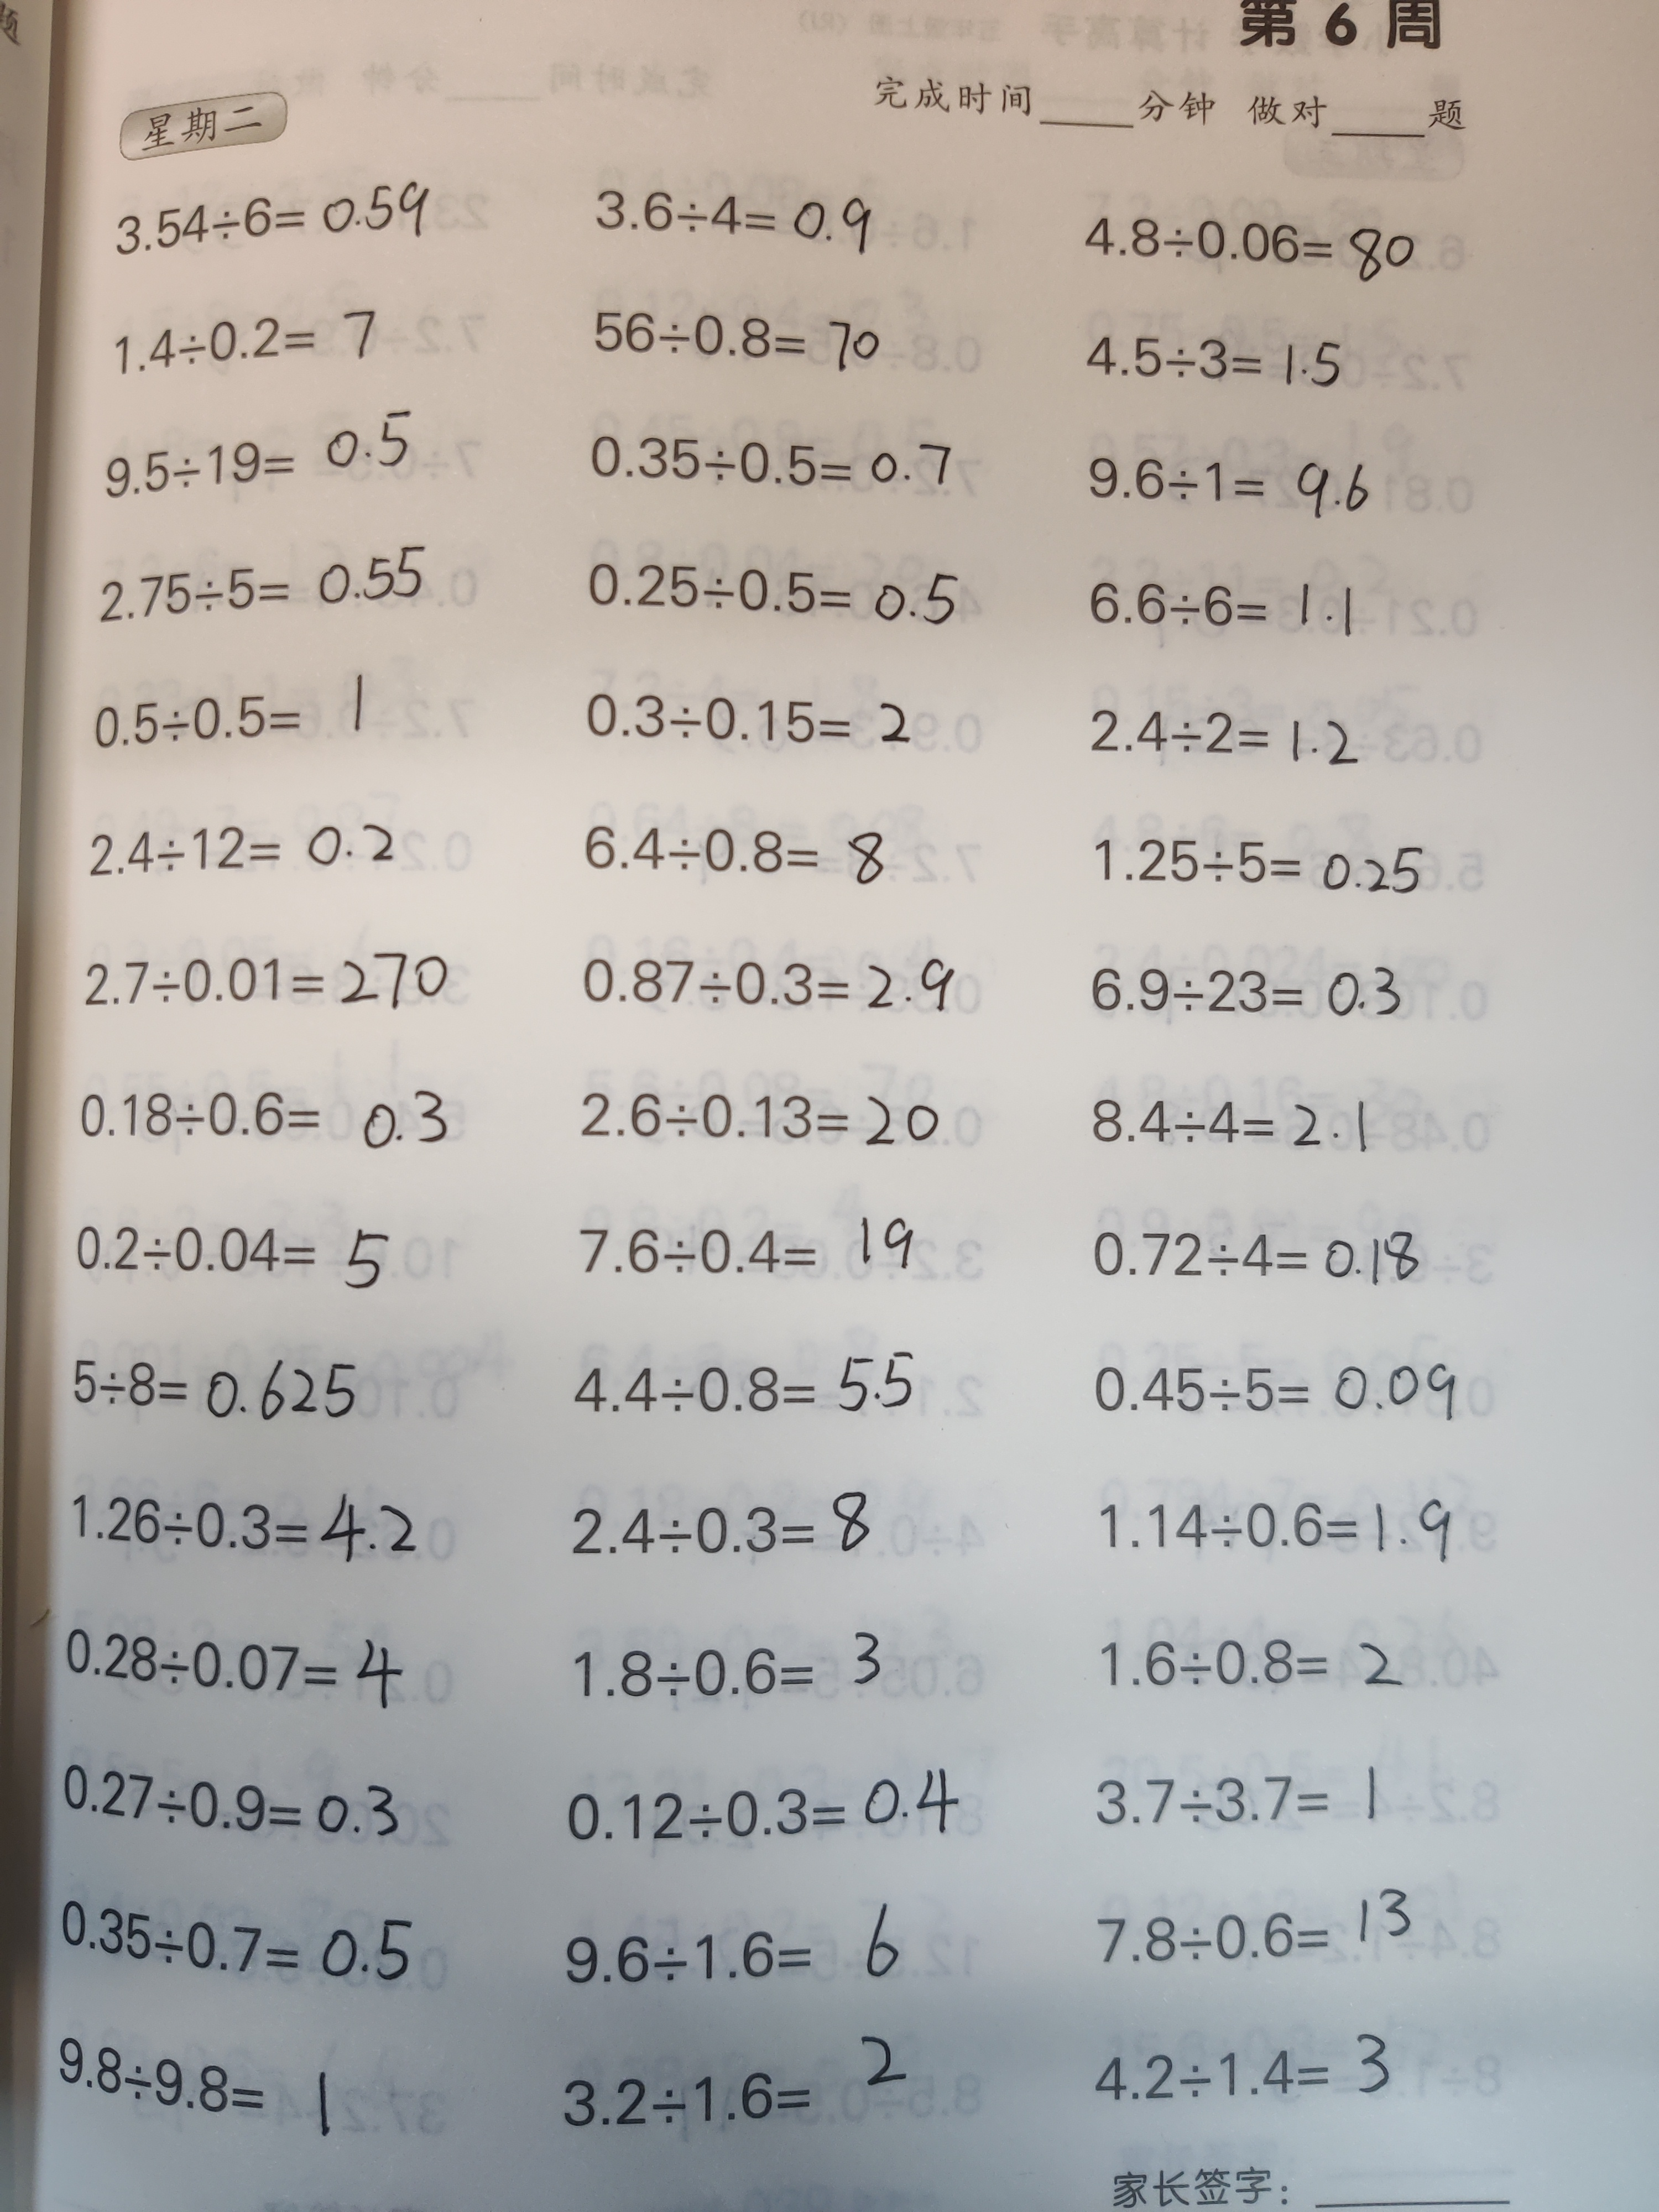equation: (47, 1878, 434, 2008), (547, 1750, 962, 1871), (533, 2029, 941, 2149), (570, 543, 983, 650), (552, 1890, 920, 2008), (52, 1613, 422, 1730), (54, 1461, 427, 1575), (61, 1069, 471, 1170), (42, 1745, 423, 1853), (105, 164, 446, 284), (1080, 1480, 1466, 1587), (1061, 181, 1417, 293), (1060, 937, 1427, 1043), (1065, 1339, 1473, 1435), (575, 413, 972, 510), (1072, 815, 1448, 916), (1073, 2020, 1420, 2128), (1094, 1878, 1420, 1991), (549, 1336, 924, 1433), (49, 2034, 350, 2155), (559, 1611, 896, 1717), (573, 164, 870, 284), (87, 533, 439, 634), (568, 671, 924, 770), (570, 941, 967, 1029), (563, 1075, 953, 1163), (54, 1209, 410, 1306), (566, 1197, 929, 1291), (1065, 437, 1382, 543), (1068, 1209, 1432, 1301), (75, 658, 376, 770), (566, 805, 910, 902), (554, 1474, 871, 1575), (73, 935, 460, 1010), (1065, 683, 1366, 779), (98, 404, 420, 493), (1075, 1080, 1389, 1170), (73, 803, 411, 885), (54, 1345, 375, 1430), (1065, 564, 1373, 651), (1072, 1759, 1399, 1841), (579, 300, 890, 380), (101, 303, 401, 385), (1054, 315, 1352, 394), (1073, 1635, 1432, 1700)
